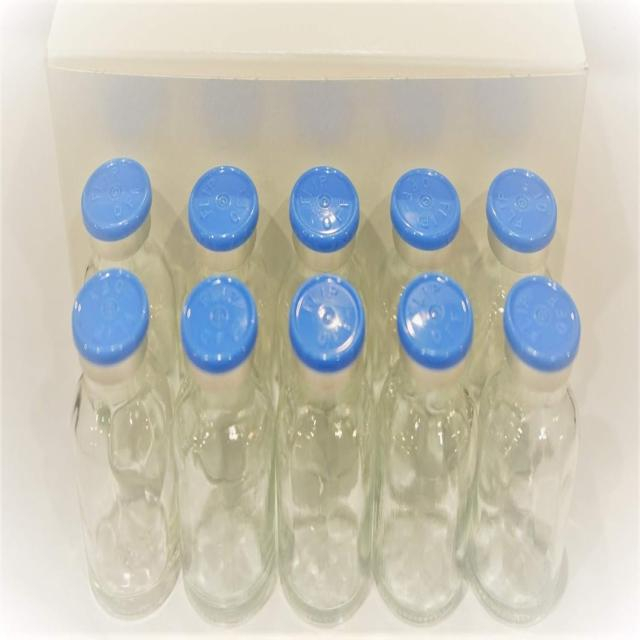vial: (185, 269, 258, 358), (184, 165, 264, 246), (506, 281, 580, 364), (402, 275, 474, 360), (78, 271, 147, 355), (290, 165, 360, 244), (292, 273, 360, 351), (87, 159, 156, 235), (493, 165, 557, 244), (398, 167, 461, 239)
